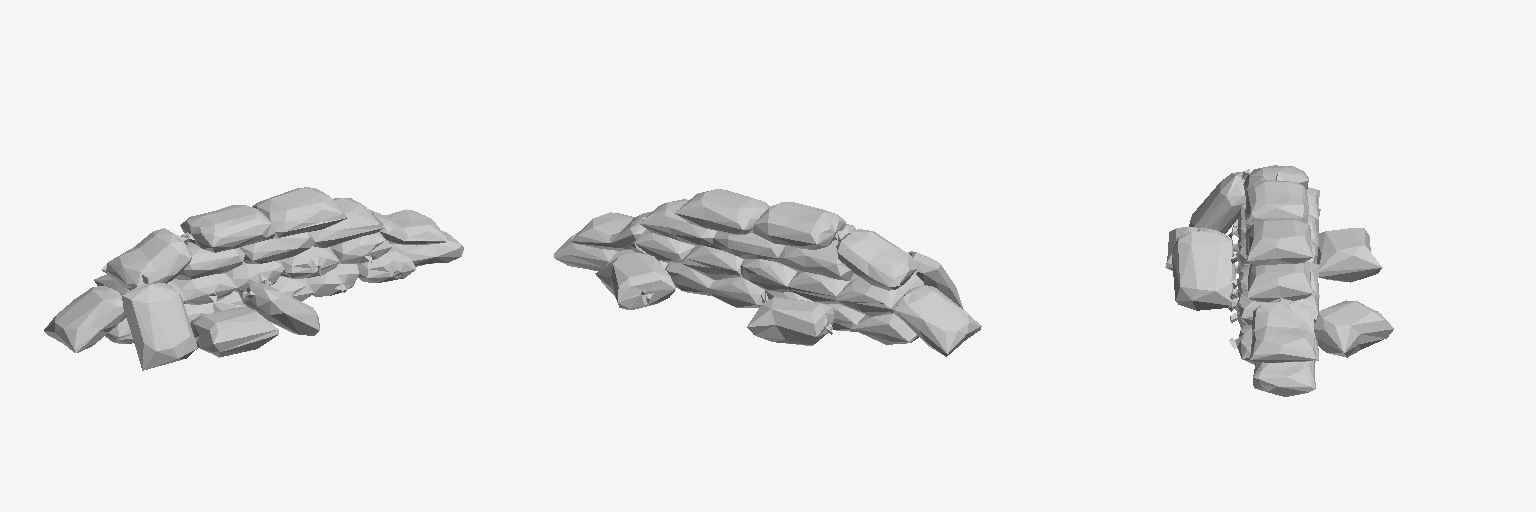
File: robotspawncamp1_high.obj
3 renders of one model, left to right at view 1: azimuth 30°, elevation 25°; view 2: azimuth 150°, elevation 25°; view 3: azimuth 270°, elevation 25°, orthographic.
Visible parts, largest first — view 1: initialShadingGroup Mesh; view 2: initialShadingGroup Mesh; view 3: initialShadingGroup Mesh.
Boxes of the visible parts, <box> form: initialShadingGroup Mesh: <box>44,187,463,370</box>; initialShadingGroup Mesh: <box>554,189,981,356</box>; initialShadingGroup Mesh: <box>1165,165,1393,396</box>.
Bounding box in the file's own units: 8.66 × 2.07 × 4.3.